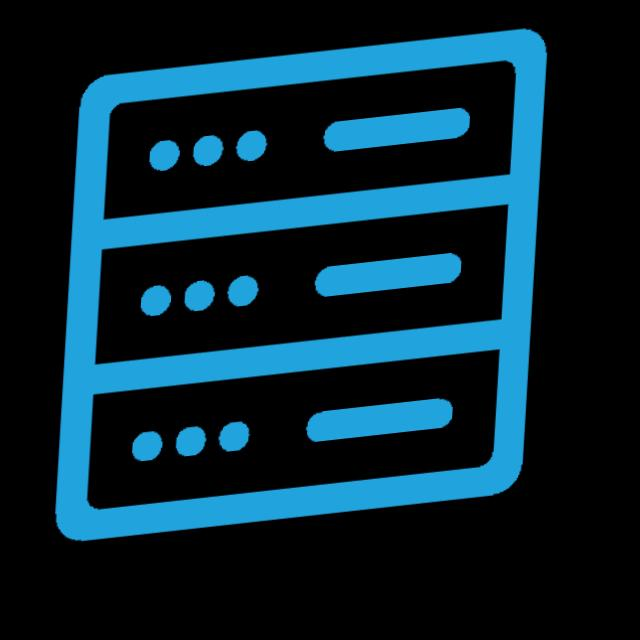Server: (42, 20, 578, 573)
